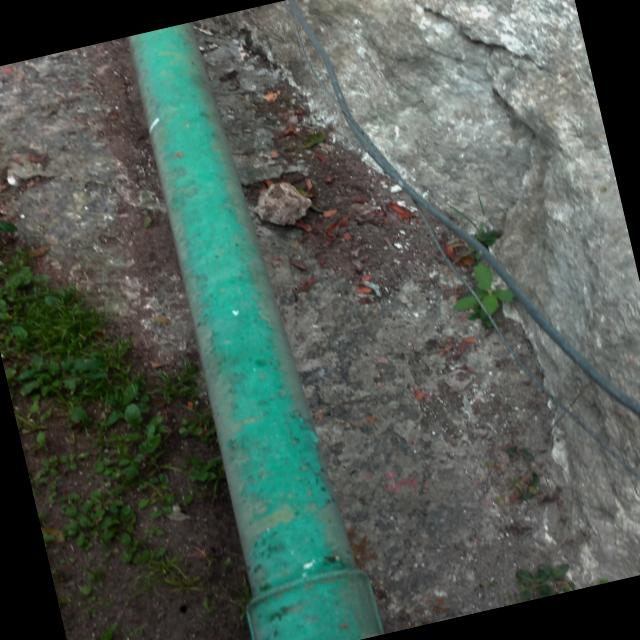gas: (110, 10, 381, 640)
